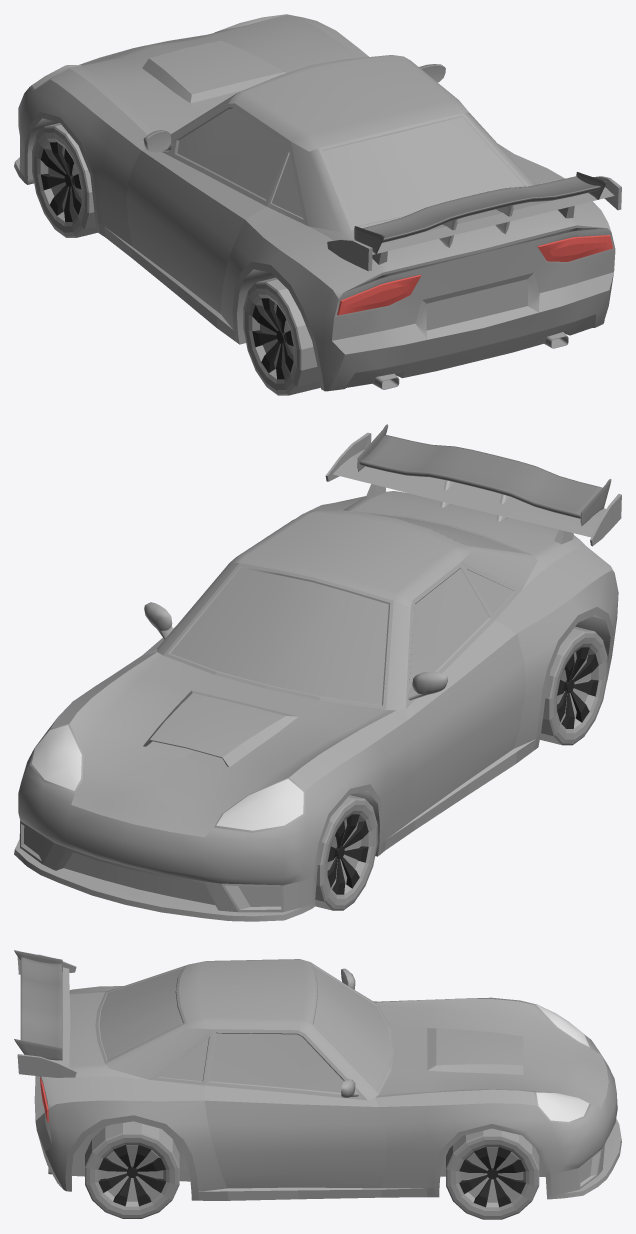
Rendered from Racing_Car_V2_Fixed_And_Smooth.fbx.
3 renders of one model, top to bottom at view 1: azimuth 30°, elevation 25°; view 2: azimuth 150°, elevation 25°; view 3: azimuth 270°, elevation 25°, orthographic. The views are drawn at different scales.
Parts seen in each view (by area): view 1: Body, Glass, haub, Roof, wheelbl3, Universal spoiler 1, WheelFL1, back light, spoilerbody, rimbl3, rimfl1, sideparts.001 (+1 smaller); view 2: Body, haub, Glass, Roof, Universal spoiler 1, front lights, spoilerbody, wheelbl3, WheelFL1, rimbl3, rimfl1, sideparts.001 (+1 smaller); view 3: Body, haub, Glass, Roof, WheelBL4, WheelFL2, Universal spoiler 1, rimbl4, rimfl2, front lights, sideparts.001, sideparts (+1 smaller).
Boxes of the visible parts, left/top/right/bottom form: Body: left=14, top=15, right=615, bottom=391; Glass: left=30, top=14, right=523, bottom=226; haub: left=70, top=15, right=359, bottom=134; Roof: left=228, top=55, right=468, bottom=151; wheelbl3: left=243, top=277, right=320, bottom=395; Universal spoiler 1: left=363, top=176, right=600, bottom=242; WheelFL1: left=32, top=123, right=97, bottom=237; back light: left=337, top=235, right=613, bottom=315; spoilerbody: left=372, top=187, right=614, bottom=254; rimbl3: left=252, top=298, right=293, bottom=379; rimfl1: left=41, top=142, right=81, bottom=221; sideparts.001: left=327, top=176, right=621, bottom=271; Body: left=14, top=491, right=618, bottom=921; haub: left=69, top=652, right=395, bottom=837; Glass: left=29, top=511, right=524, bottom=832; Roof: left=230, top=510, right=471, bottom=606; Universal spoiler 1: left=359, top=435, right=602, bottom=518; front lights: left=31, top=725, right=303, bottom=830; spoilerbody: left=333, top=450, right=606, bottom=537; wheelbl3: left=540, top=626, right=607, bottom=745; WheelFL1: left=315, top=795, right=377, bottom=910; rimbl3: left=557, top=647, right=598, bottom=728; rimfl1: left=327, top=814, right=368, bottom=894; sideparts.001: left=325, top=432, right=621, bottom=546; Body: left=34, top=962, right=621, bottom=1200; haub: left=376, top=999, right=608, bottom=1107; Glass: left=99, top=966, right=590, bottom=1123; Roof: left=178, top=959, right=317, bottom=1033; WheelBL4: left=85, top=1121, right=179, bottom=1218; WheelFL2: left=446, top=1128, right=539, bottom=1219; Universal spoiler 1: left=20, top=957, right=62, bottom=1048; rimbl4: left=98, top=1145, right=165, bottom=1206; rimfl2: left=459, top=1147, right=525, bottom=1207; front lights: left=536, top=1005, right=589, bottom=1121; sideparts.001: left=17, top=954, right=76, bottom=1077; sideparts: left=14, top=950, right=62, bottom=1060.
Bounding box in the file's own units: 142 × 94.9 × 297.
